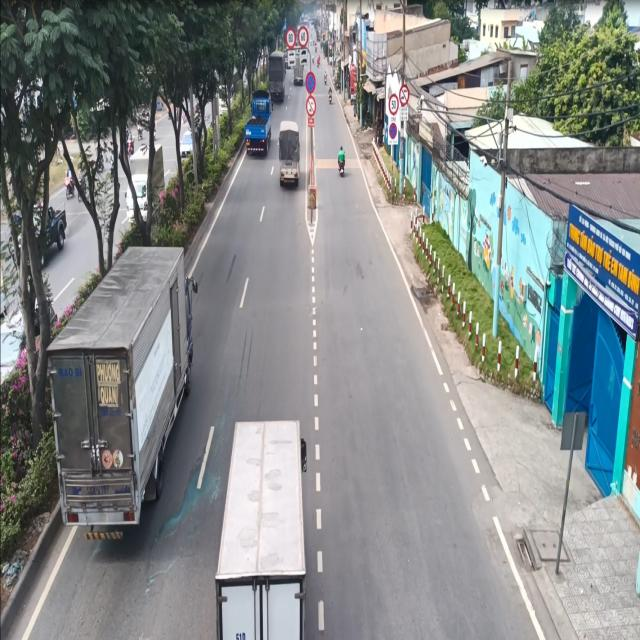motor: (334, 138, 350, 186)
truck: (47, 237, 190, 579), (216, 405, 314, 640), (242, 87, 276, 158), (279, 120, 306, 190)
